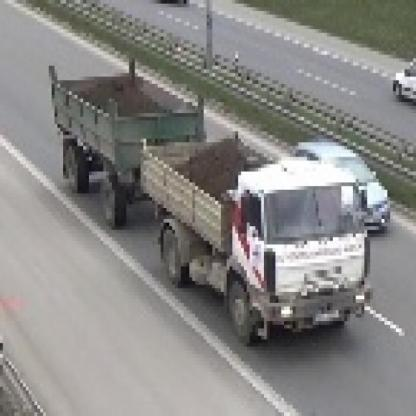truck: (52, 49, 374, 345)
